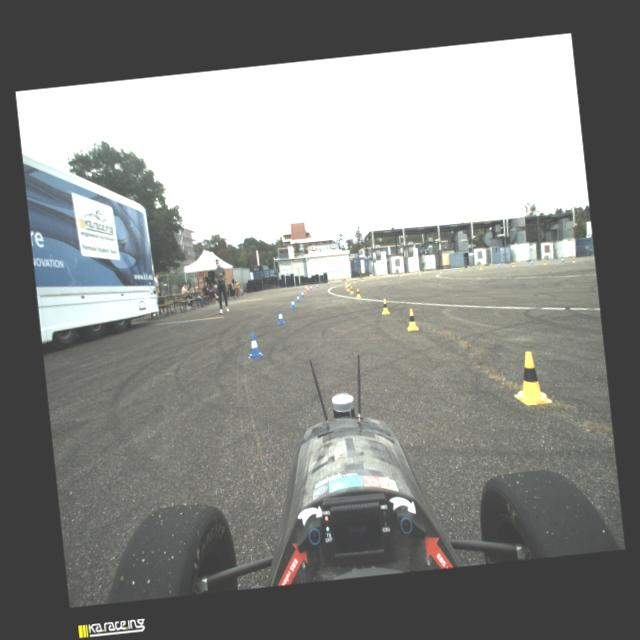blue_cone: (246, 332, 263, 358), (276, 310, 285, 324), (290, 298, 296, 308), (295, 294, 300, 302), (300, 290, 304, 296), (307, 286, 309, 291), (310, 285, 312, 290), (316, 283, 318, 287), (326, 281, 328, 285), (338, 279, 340, 283), (562, 258, 564, 262), (530, 260, 532, 264), (354, 277, 356, 280), (498, 262, 499, 266), (472, 266, 474, 268), (444, 268, 446, 270), (398, 272, 399, 276), (376, 275, 377, 278), (418, 271, 419, 274)
large_orange_cone: (304, 284, 308, 293), (344, 279, 347, 289)
yellow_cone: (509, 349, 552, 406), (404, 308, 418, 331), (380, 298, 390, 314), (356, 288, 360, 298), (349, 286, 353, 294), (347, 285, 350, 291), (572, 256, 574, 262), (479, 265, 482, 269), (439, 268, 442, 272), (418, 270, 421, 274), (347, 281, 349, 286), (348, 279, 350, 284), (362, 277, 364, 281), (399, 272, 401, 276), (543, 260, 545, 264), (512, 262, 514, 266), (376, 275, 378, 279), (354, 278, 356, 282), (460, 266, 461, 270)
